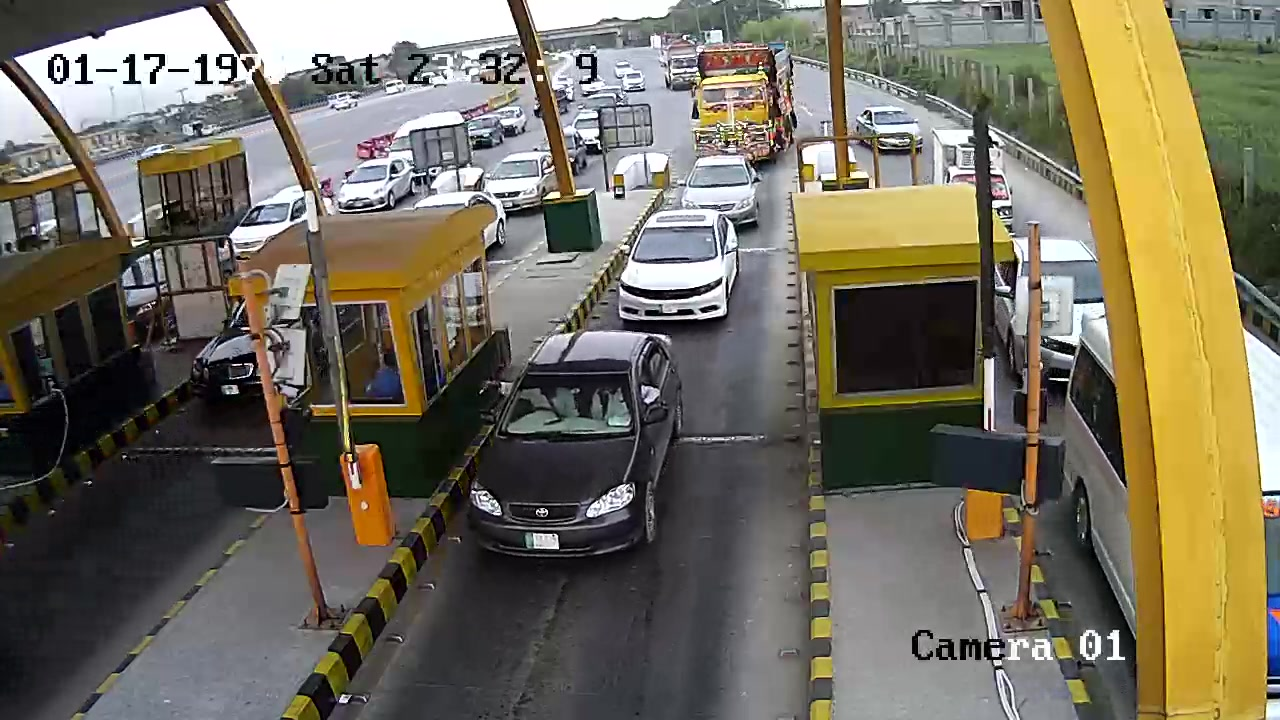F1: (471, 323, 685, 563), (612, 206, 742, 332)
